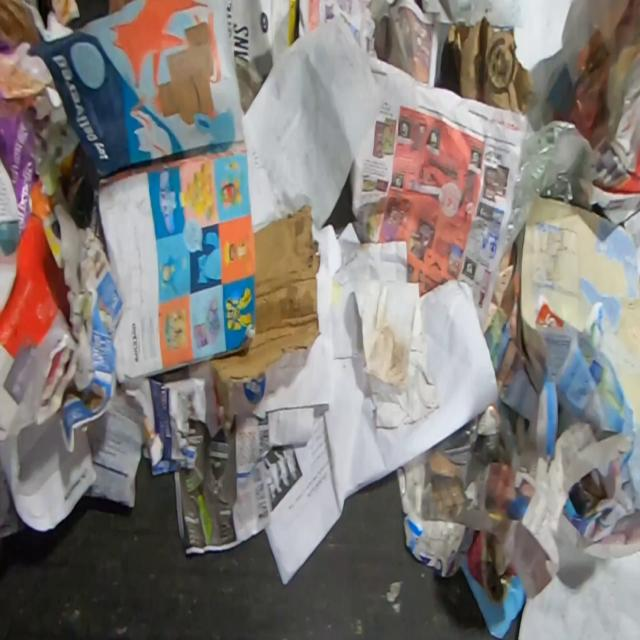cardboard: (209, 205, 320, 385), (395, 448, 469, 580), (444, 15, 534, 114)
soft_plastic: (500, 114, 600, 264)
